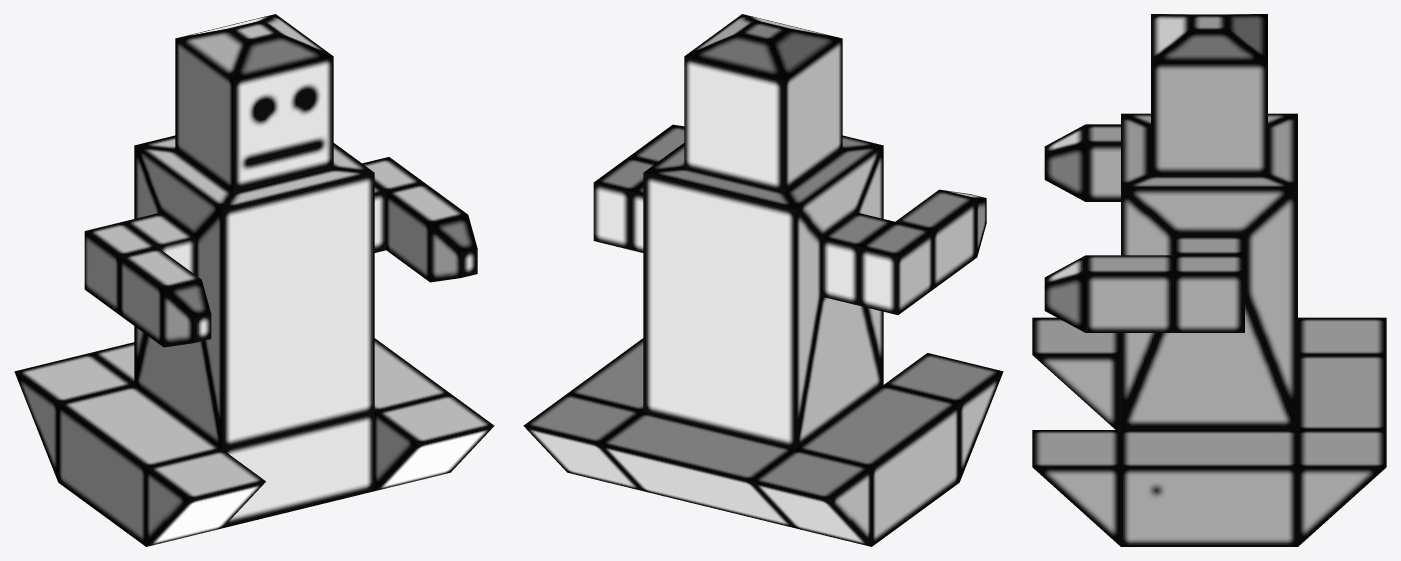
Rendered from Player.obj.
The picture shows the model from 3 angles, left to right: view 1: azimuth 30°, elevation 25°; view 2: azimuth 150°, elevation 25°; view 3: azimuth 270°, elevation 25°; orthographic projection.
Visible parts, largest first — view 1: Box03; view 2: Box03; view 3: Box03.
Part boxes in pixels (x1,y1,x2,y2): Box03: [14, 14, 494, 546]; Box03: [523, 14, 1003, 546]; Box03: [1032, 14, 1386, 546].
Bounding box in the file's own units: 2 × 2.8 × 2.
Materials: 1 (1 with a texture image).
